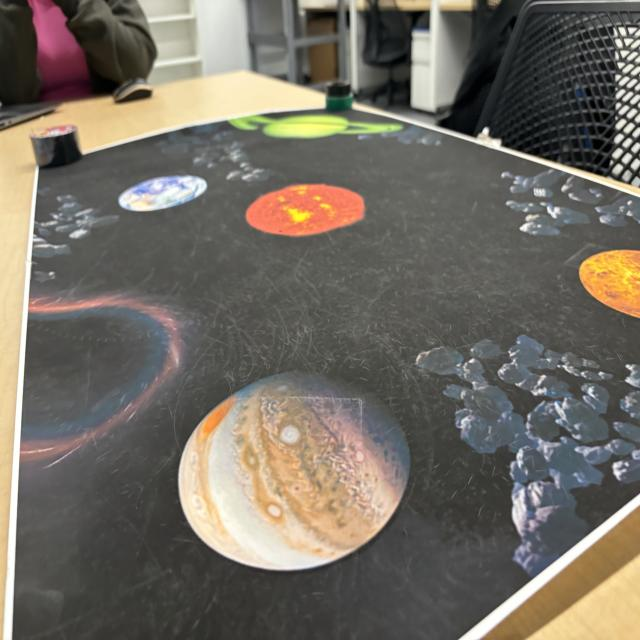Asteroids: (426, 340, 640, 558), (501, 166, 632, 224), (29, 187, 112, 271), (175, 119, 271, 181)
Black Hole: (18, 298, 176, 456)
Earth: (114, 173, 204, 210)
Jupiter: (178, 369, 411, 569)
Saturn: (232, 115, 398, 142)
Sun: (251, 183, 367, 237)
Venus: (580, 246, 640, 314)
